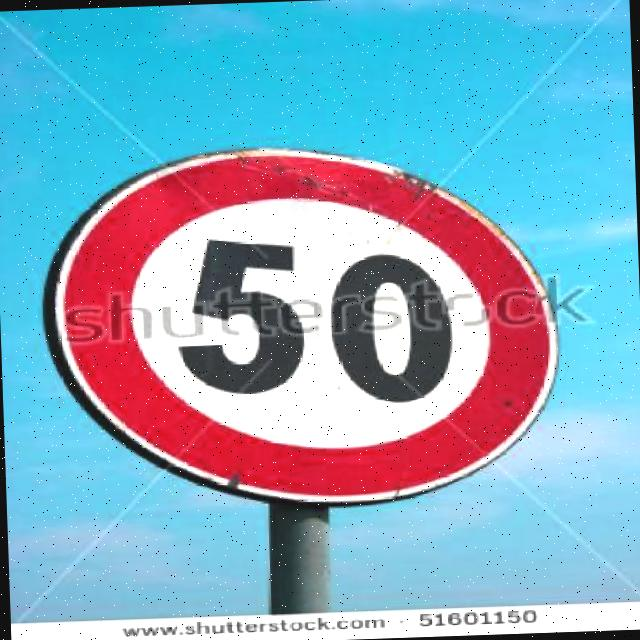Ograniczenie predkosci do 50: (58, 150, 581, 508)
